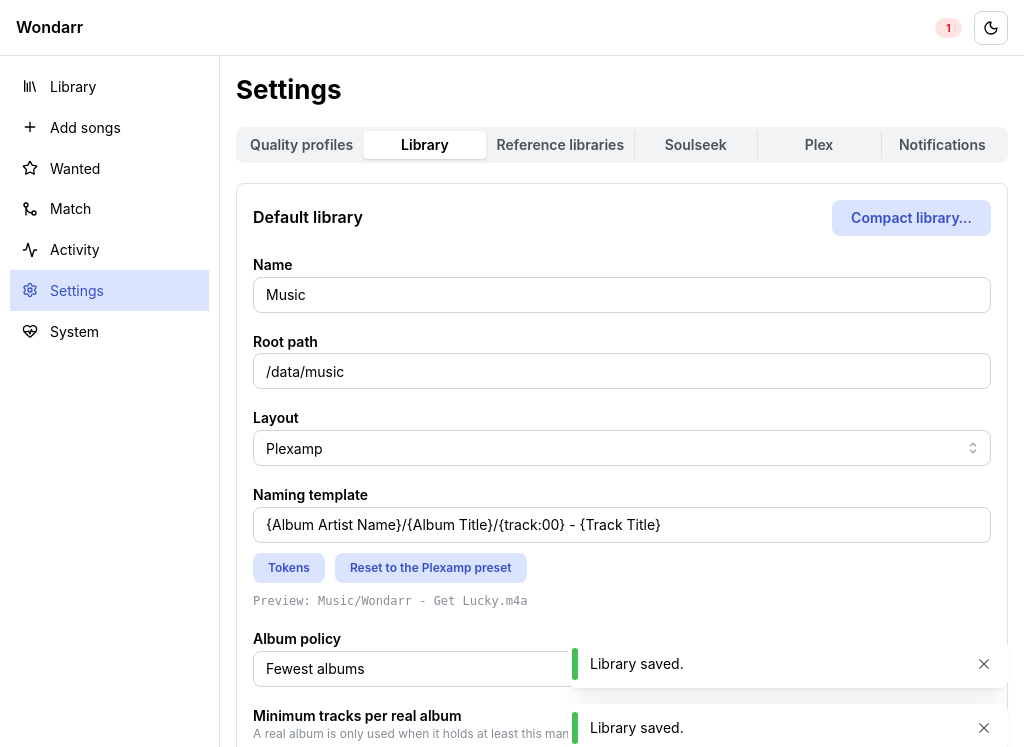
Test: LibrarySettingsPage naming template › resets the template to the selected layout preset
expect the field showing "Music" is shown: met, box [253,277,991,313]
Click the button "Reset to the Plexamp preset" at (431, 568), box [335,553,527,583]
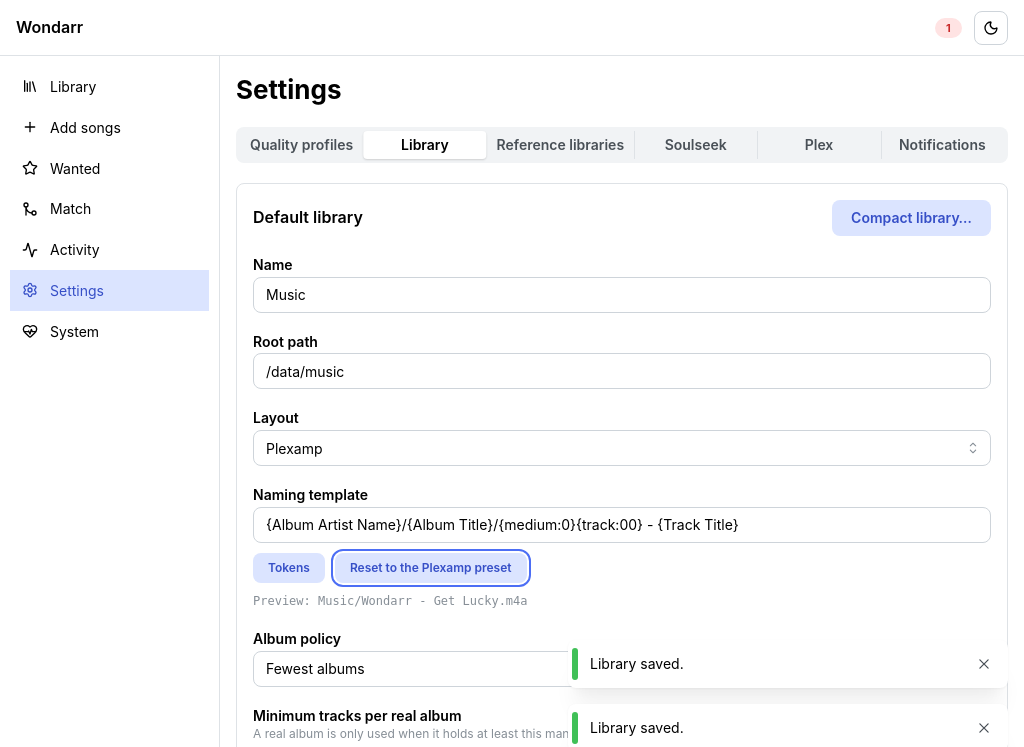
expect the field labelled "Naming template" holds "{Album Artist Name}/{Album Title}/{medium:0}{track:00} - {Track Title}": met, box [253,507,991,543]
